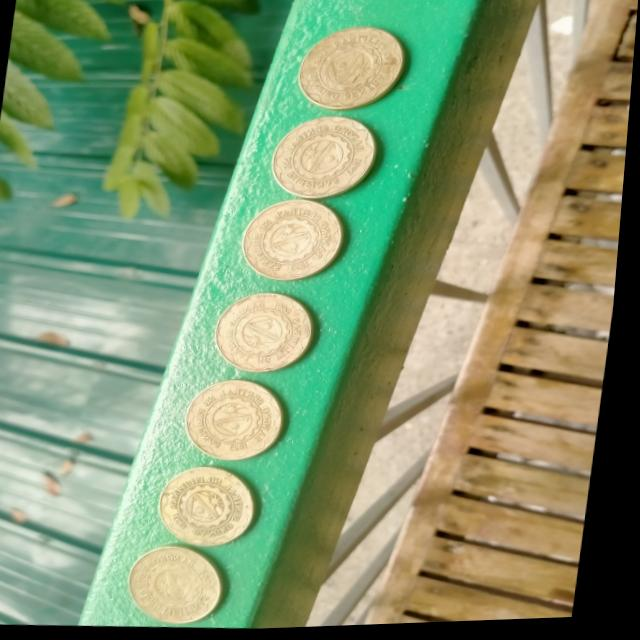5_Old_Back: (281, 118, 380, 203), (225, 301, 321, 369), (168, 475, 260, 545)
